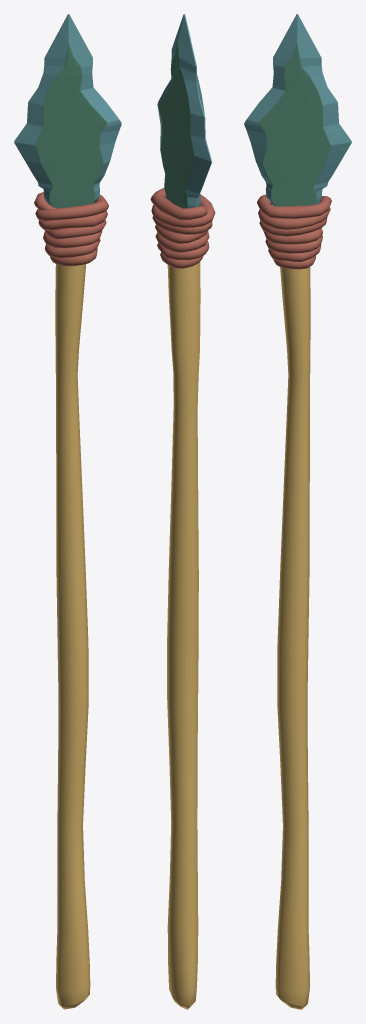
File: Spear_low.fbx
The picture shows the model from 3 angles, left to right: view 1: azimuth 90°, elevation 25°; view 2: azimuth 210°, elevation 25°; view 3: azimuth 270°, elevation 25°; orthographic projection.
Parts seen in each view (by area): view 1: Staff_low, Spear_low, Wrap_low; view 2: Staff_low, Spear_low, Wrap_low; view 3: Staff_low, Spear_low, Wrap_low.
Part boxes in pixels (<box>): Staff_low: <box>55,264,90,1009</box>; Spear_low: <box>14,14,121,208</box>; Wrap_low: <box>34,192,108,266</box>; Staff_low: <box>167,261,200,1009</box>; Spear_low: <box>157,14,211,208</box>; Wrap_low: <box>150,188,215,268</box>; Staff_low: <box>275,267,310,1009</box>; Spear_low: <box>244,14,351,206</box>; Wrap_low: <box>257,194,331,269</box>.
Size of the model in its own units: 0.8115 by 16.33 by 1.6.
